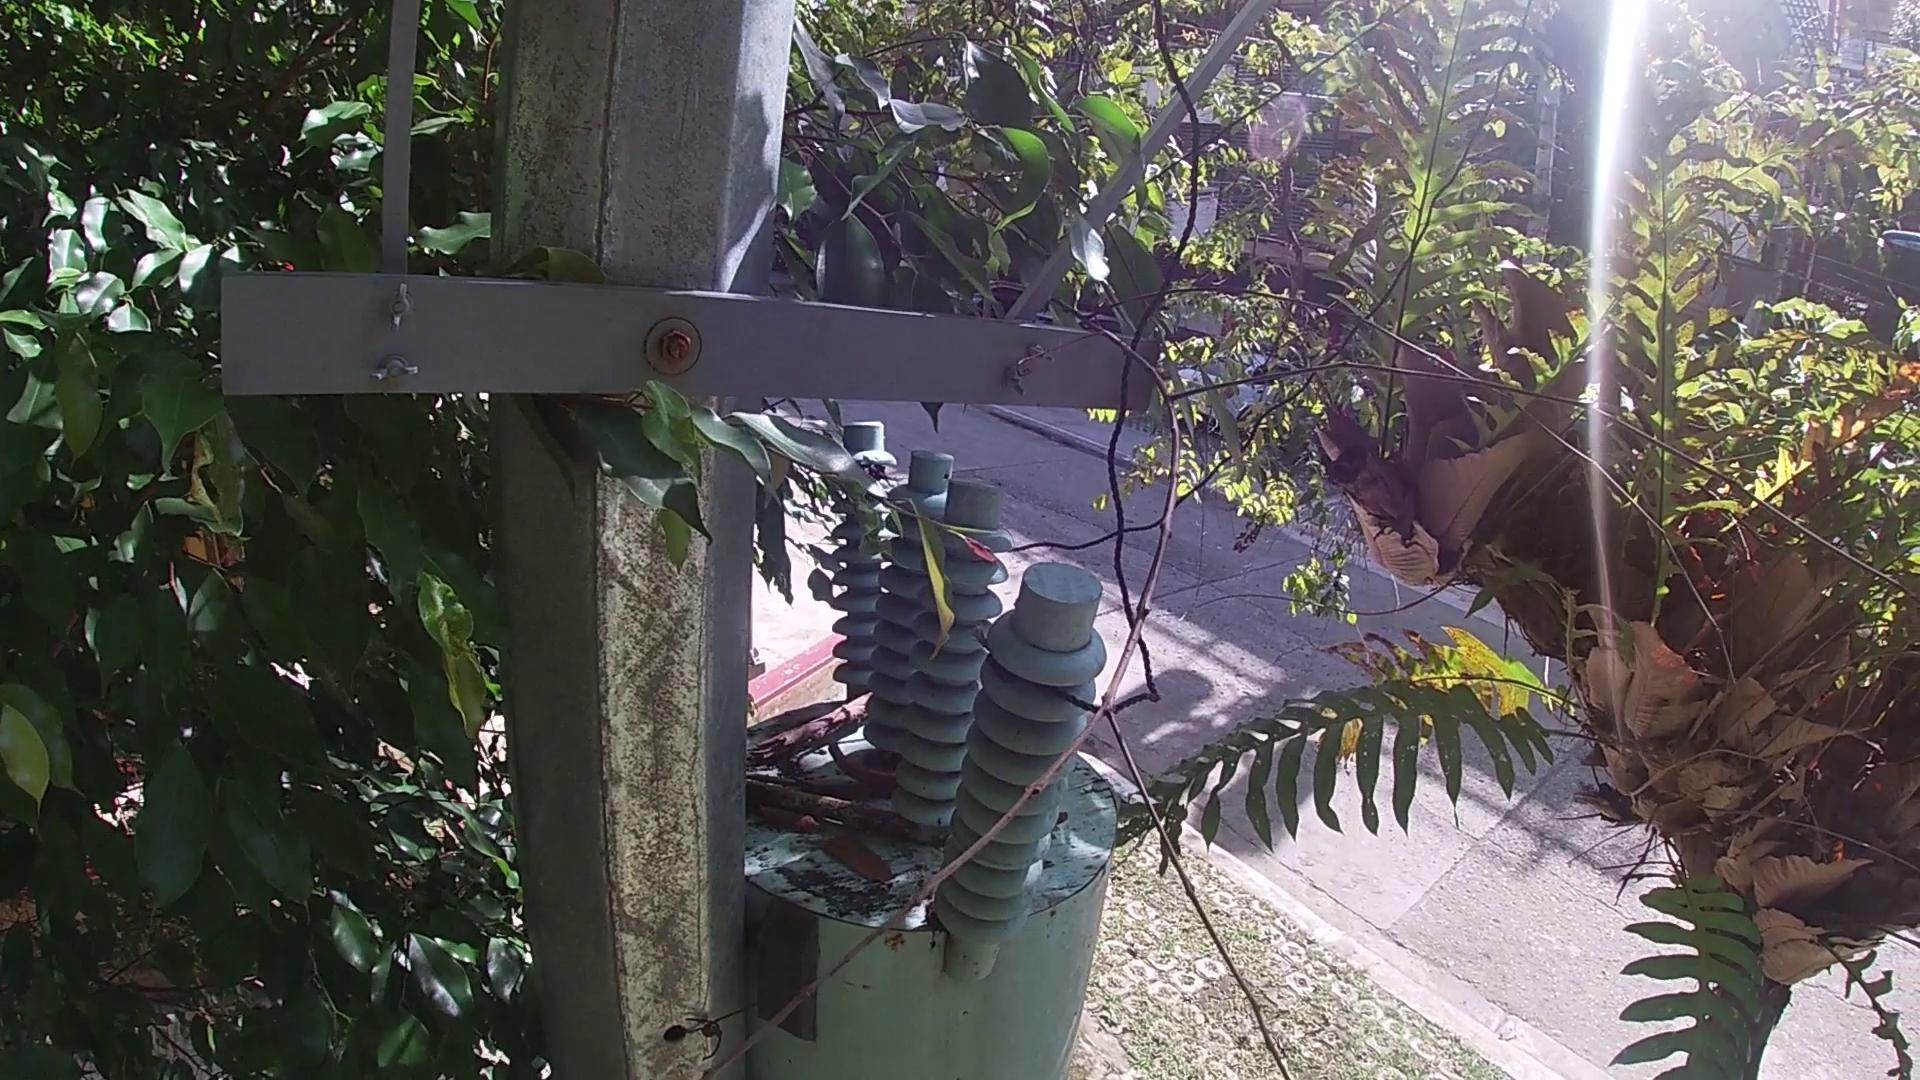leaf: (816, 836, 899, 887), (756, 800, 825, 837)
tree branch: (698, 276, 1920, 1077), (746, 690, 880, 781), (745, 775, 916, 839)
